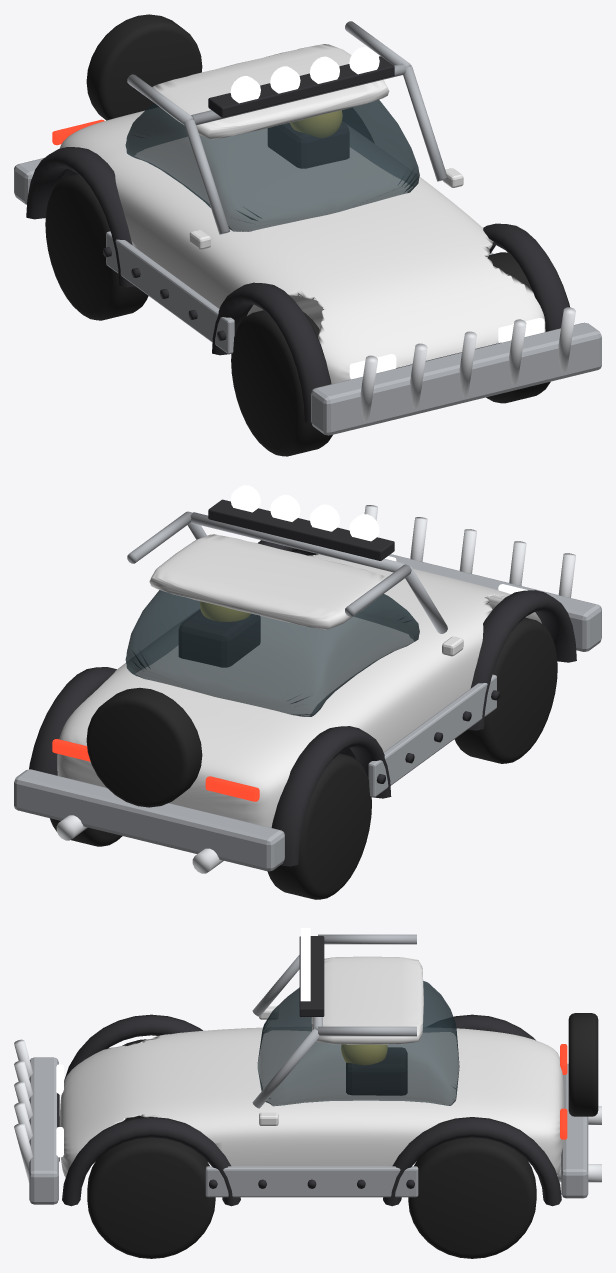
The model's file is rally.glb.
3 renders of one model, top to bottom at view 1: azimuth 30°, elevation 25°; view 2: azimuth 150°, elevation 25°; view 3: azimuth 270°, elevation 25°, orthographic. The views are drawn at different scales.
Visible parts, largest first — view 1: Paint_Body, Dark_Parts, Steel_Parts, Glass, Wheel_FR, Wheel_RR, HeadLights, Wheel_FL, Helmet; view 2: Paint_Body, Dark_Parts, Steel_Parts, Glass, Wheel_RR, Wheel_FR, HeadLights, TailLights, Wheel_RL, Helmet; view 3: Paint_Body, Dark_Parts, Steel_Parts, Glass, Wheel_FL, Wheel_RL, HeadLights, Helmet, TailLights.
Boxes of the visible parts, x1=… form: Paint_Body: x1=59, y1=44, x2=545, y2=383; Dark_Parts: x1=26, y1=14, x2=569, y2=422; Steel_Parts: x1=14, y1=21, x2=601, y2=435; Glass: x1=125, y1=100, x2=419, y2=231; Wheel_FR: x1=231, y1=310, x2=332, y2=456; Wheel_RR: x1=45, y1=174, x2=148, y2=320; HeadLights: x1=230, y1=47, x2=544, y2=379; Wheel_FL: x1=486, y1=252, x2=550, y2=403; Helmet: x1=290, y1=110, x2=342, y2=137; Paint_Body: x1=57, y1=534, x2=541, y2=827; Dark_Parts: x1=29, y1=499, x2=576, y2=873; Steel_Parts: x1=14, y1=505, x2=601, y2=871; Glass: x1=125, y1=590, x2=419, y2=716; Wheel_RR: x1=267, y1=753, x2=371, y2=899; Wheel_FR: x1=454, y1=617, x2=557, y2=763; HeadLights: x1=230, y1=485, x2=527, y2=594; TailLights: x1=52, y1=739, x2=259, y2=801; Wheel_RL: x1=50, y1=818, x2=122, y2=846; Helmet: x1=200, y1=601, x2=250, y2=621; Paint_Body: x1=59, y1=956, x2=564, y2=1177; Dark_Parts: x1=57, y1=936, x2=601, y2=1206; Steel_Parts: x1=14, y1=934, x2=588, y2=1204; Glass: x1=257, y1=981, x2=459, y2=1106; Wheel_FL: x1=87, y1=1137, x2=215, y2=1258; Wheel_RL: x1=408, y1=1137, x2=536, y2=1258; HeadLights: x1=56, y1=928, x2=310, y2=1157; Helmet: x1=341, y1=1044, x2=387, y2=1064; TailLights: x1=560, y1=1044, x2=567, y2=1139.
Bounding box in the file's own units: 2.25 × 2.26 × 4.76.
